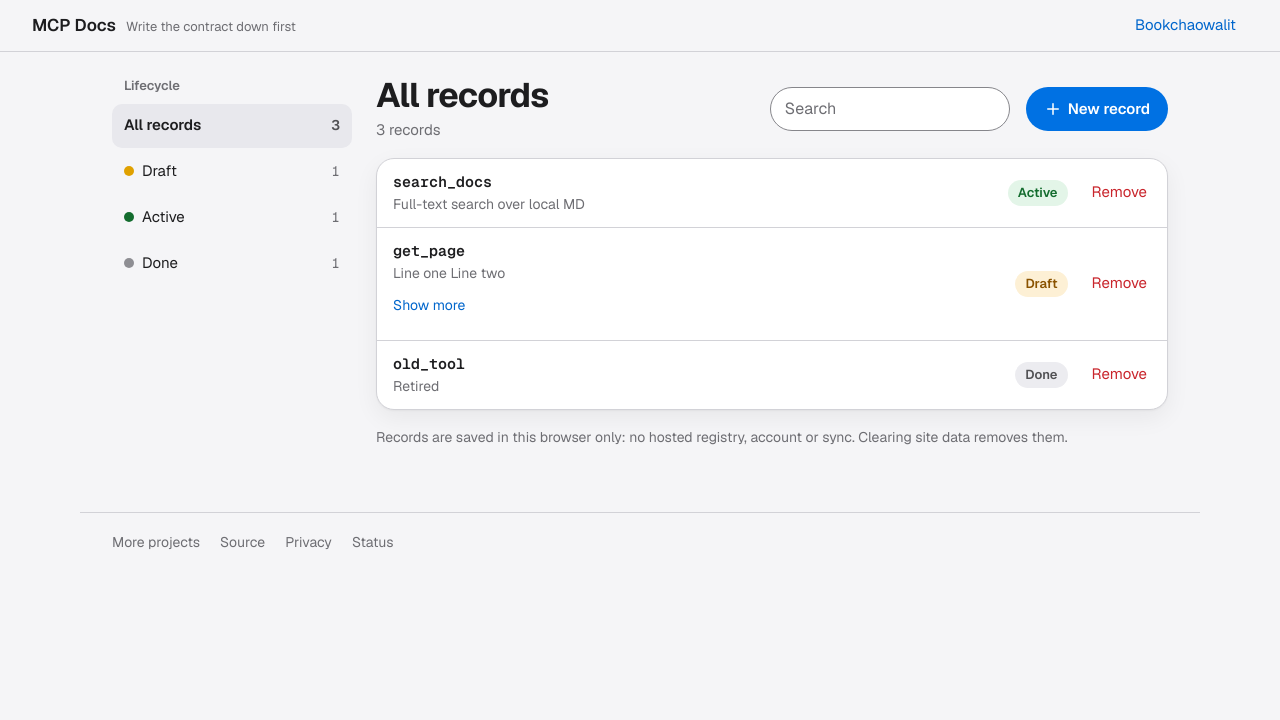
it: lists and search › offers Show more for a multi-line detail
Click the button "Show more" at (429, 306), box [393,284,465,328]
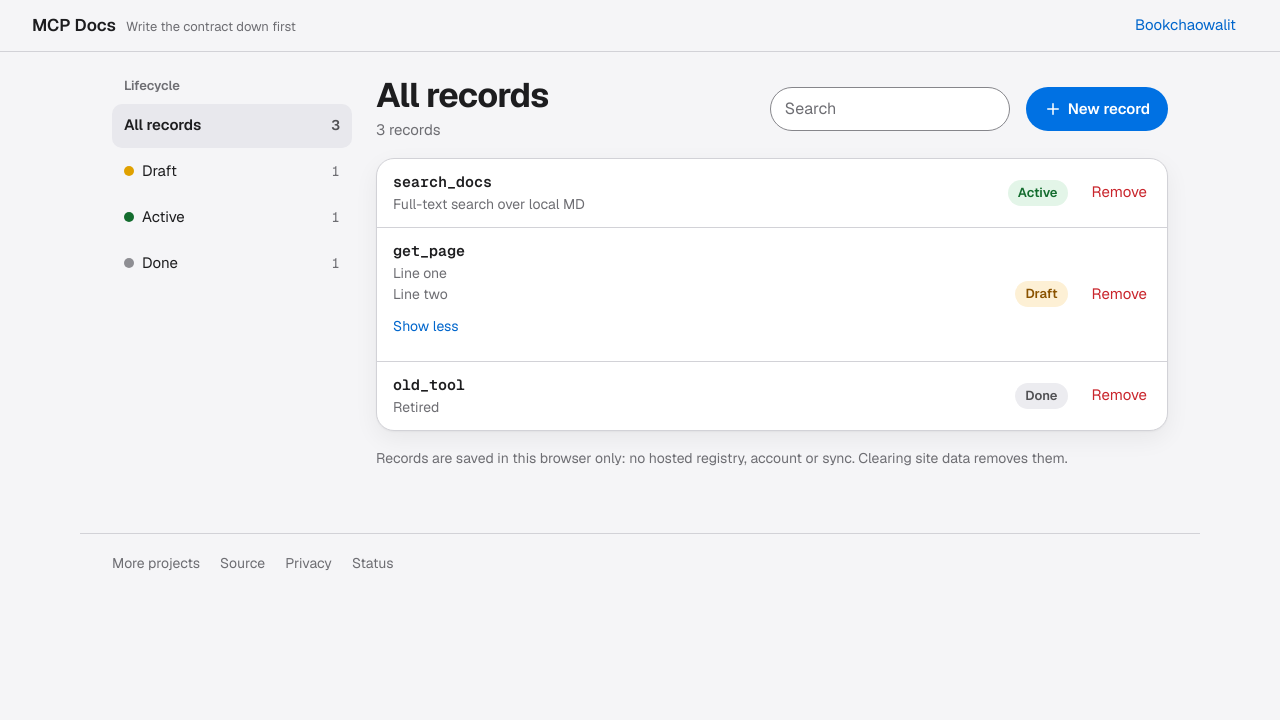
Now the button "Show less" is expanded, box [393,305,458,349]
